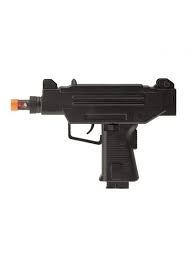Arma Falsa: (10, 78, 181, 193)
